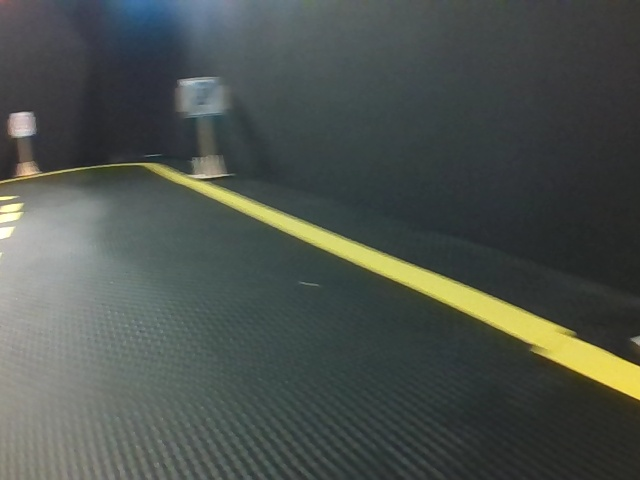30: (9, 113, 33, 136)
no30: (180, 80, 223, 117)
